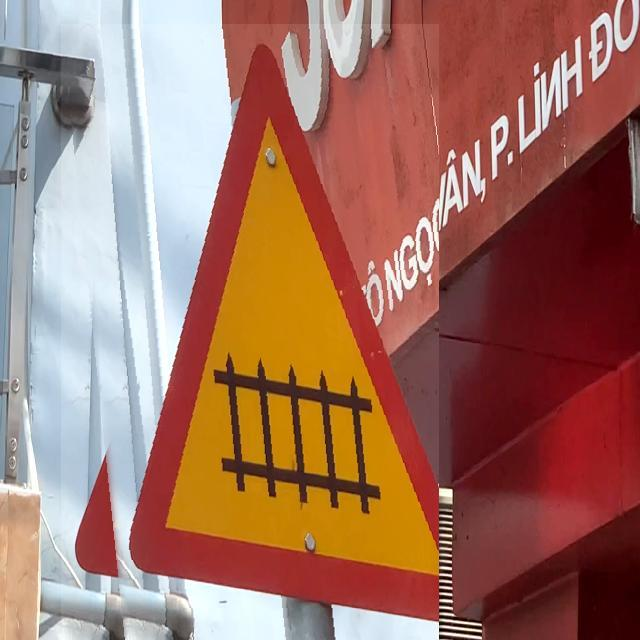W-210: (61, 24, 439, 640)
